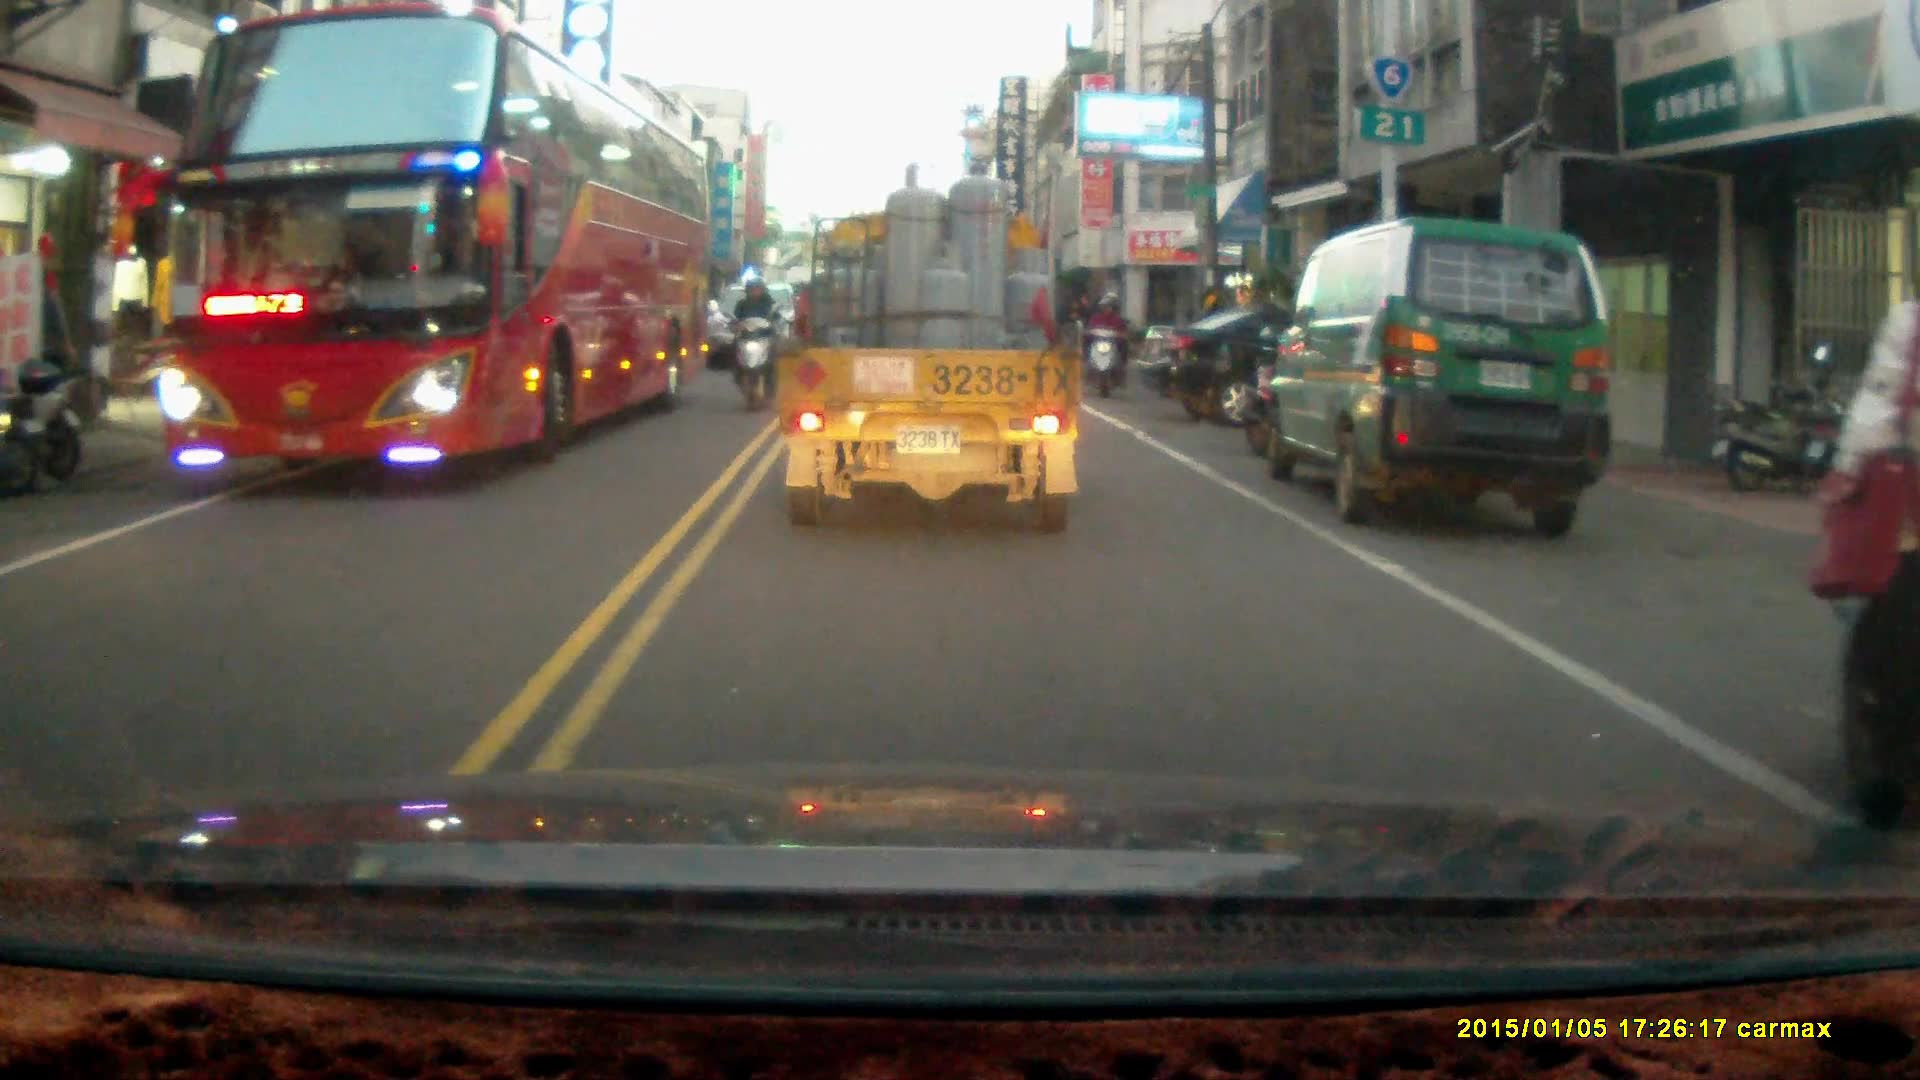pedestrian: (1810, 257, 1920, 885)
rider: (717, 274, 786, 414), (1082, 287, 1132, 396)
vehicle: (162, 14, 716, 474), (781, 157, 1083, 534), (1266, 215, 1618, 535), (1137, 304, 1470, 426), (694, 283, 818, 375)
